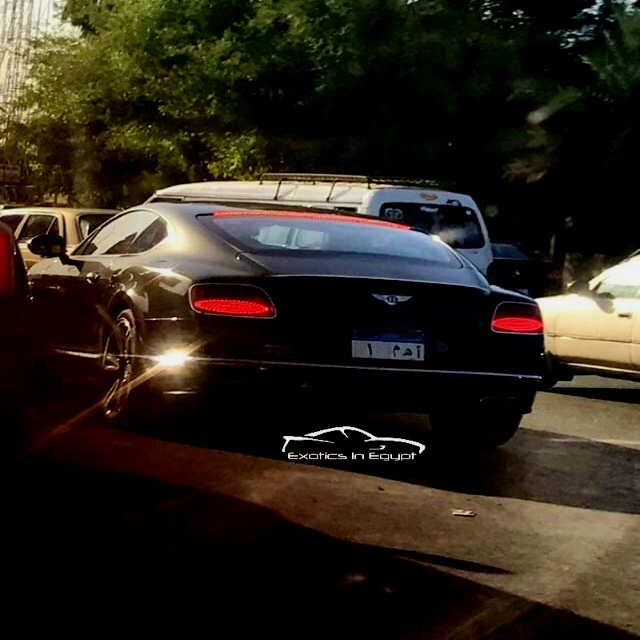License Plate: (349, 326, 428, 363)
